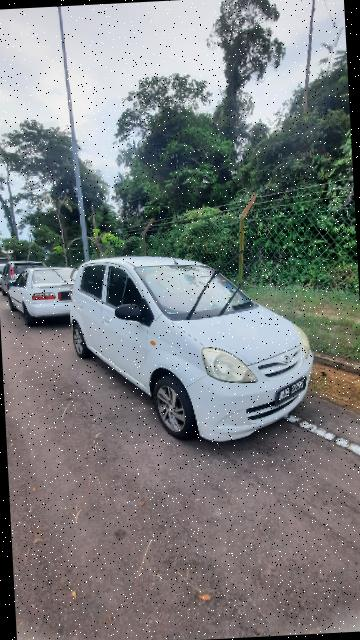License_Plate: (276, 375, 314, 405)
car: (70, 243, 320, 454)
